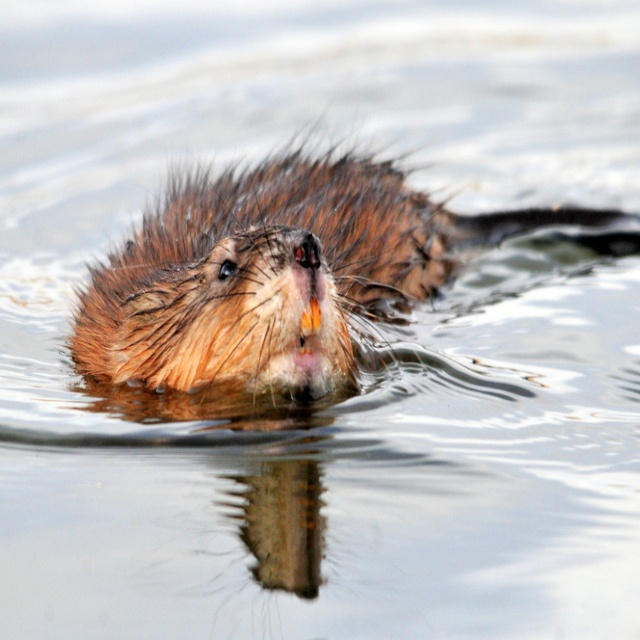Otter: (52, 114, 473, 402)
